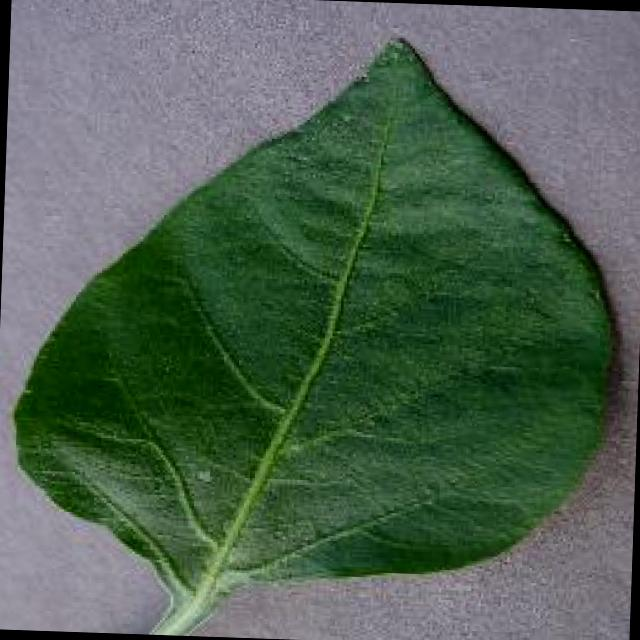healthy: (17, 42, 610, 633)
